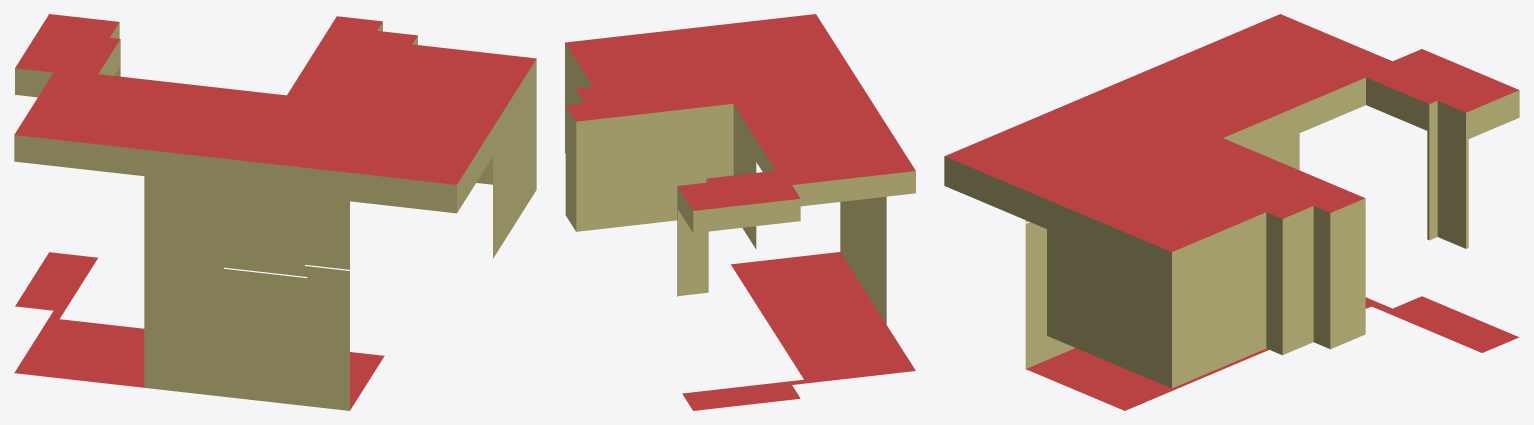
3 views of the same model, side by side, from view 1: azimuth 30°, elevation 25°; view 2: azimuth 150°, elevation 25°; view 3: azimuth 270°, elevation 25° (orthographic). The views are drawn at different scales.
Parts seen in each view (by area): view 1: group_4, group_3, group_5; view 2: group_3, group_4, group_5; view 3: group_4, group_3, group_5.
Part boxes in pixels (box(x1,y1,x2,y2)): group_4: box(14, 22, 536, 410); group_3: box(14, 14, 536, 184); group_5: box(14, 252, 384, 410); group_3: box(565, 14, 915, 210); group_4: box(565, 43, 915, 324); group_5: box(682, 252, 915, 410); group_4: box(944, 77, 1519, 388); group_3: box(945, 14, 1518, 251); group_5: box(1026, 296, 1518, 410).
Size of the model in its own units: 40.45 by 41.27 by 19.58.
